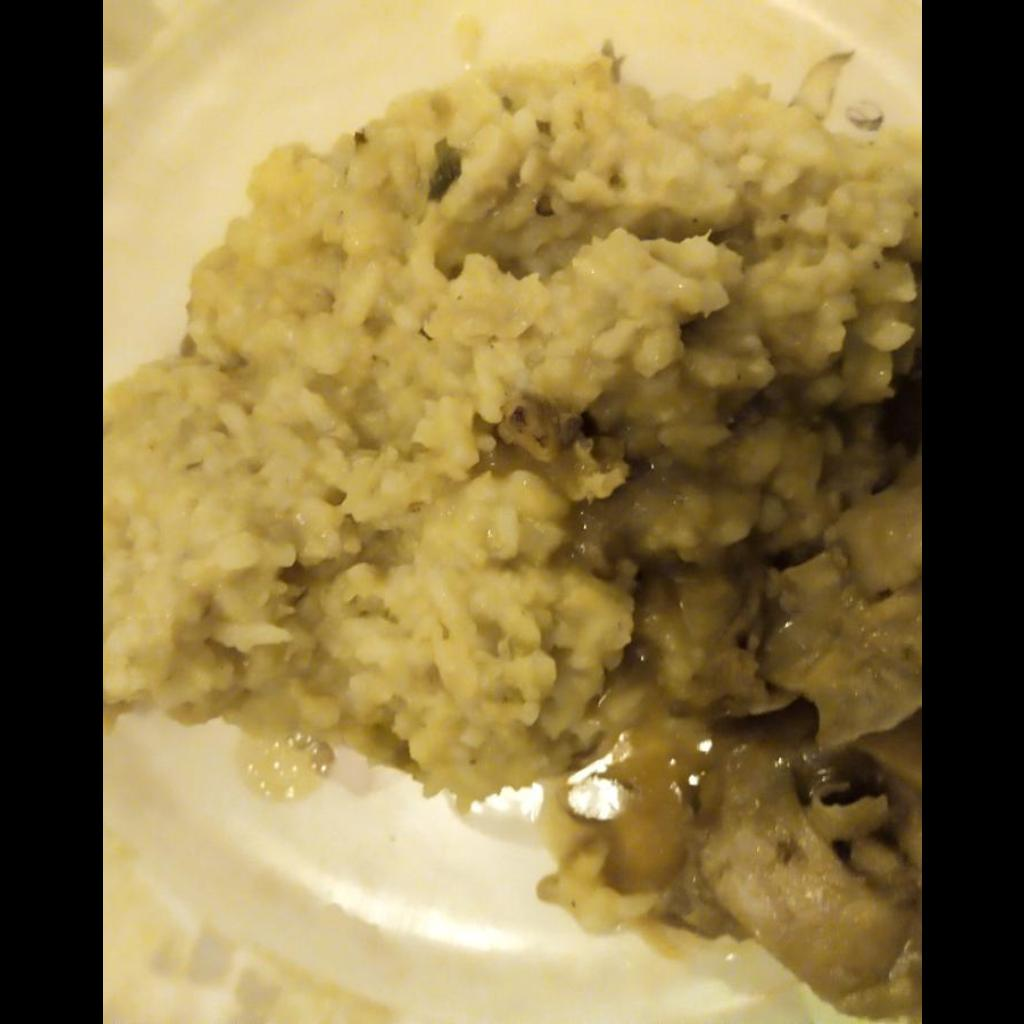khichuri: (102, 72, 920, 1023)
